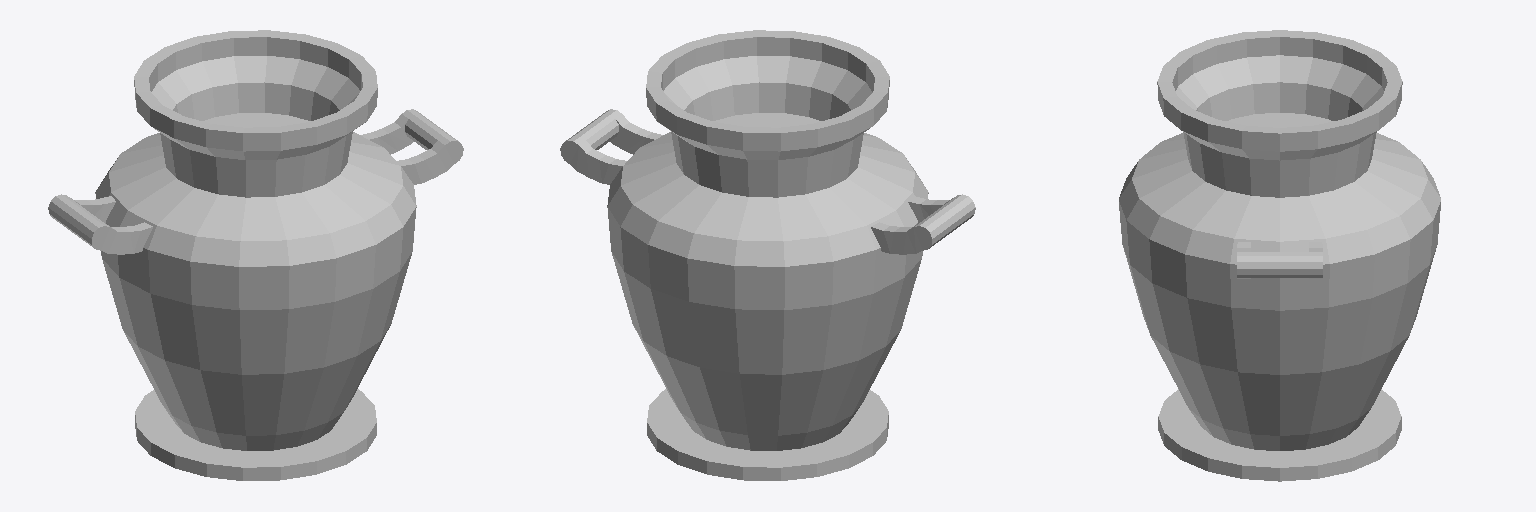
The model's file is HunkVase.obj.
3 renders of one model, left to right at view 1: azimuth 30°, elevation 25°; view 2: azimuth 150°, elevation 25°; view 3: azimuth 270°, elevation 25°, orthographic.
Visible parts, largest first — view 1: HunkVase_Cylinder.003; view 2: HunkVase_Cylinder.003; view 3: HunkVase_Cylinder.003.
Part boxes in pixels (x1,y1,x2,y2): HunkVase_Cylinder.003: (48,30,463,480); HunkVase_Cylinder.003: (560,30,975,480); HunkVase_Cylinder.003: (1119,30,1440,481).
Bounding box in the file's own units: 2.86 × 2.56 × 2.15.